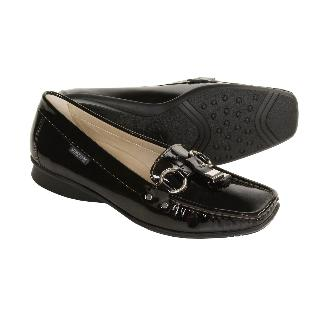loafers: (28, 76, 302, 242)
